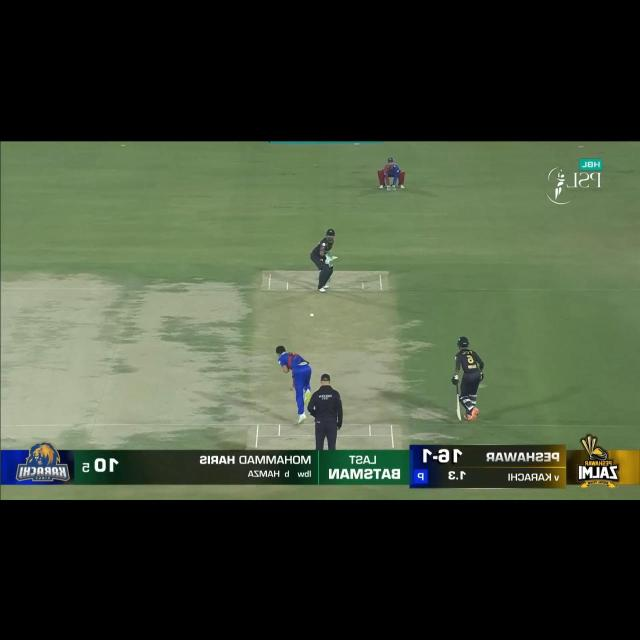bat: (454, 395, 462, 422), (329, 256, 340, 262)
toe: (454, 413, 464, 422), (333, 256, 339, 262)
